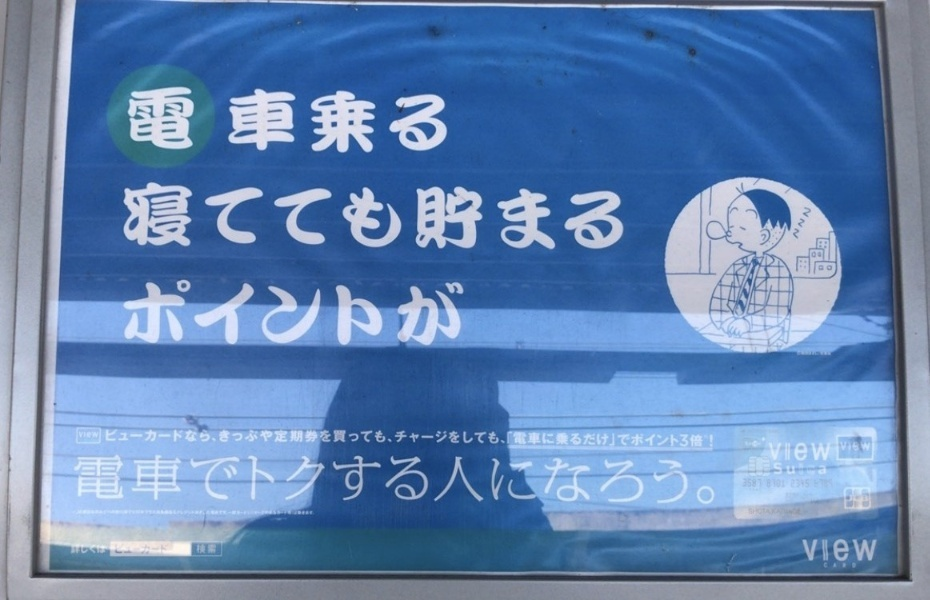text: (129, 278, 144, 349), (145, 278, 160, 349), (161, 278, 176, 349), (177, 278, 192, 349), (193, 278, 208, 349), (209, 278, 224, 349), (225, 278, 240, 349), (241, 278, 256, 349), (257, 278, 272, 349), (273, 278, 288, 349), (289, 278, 304, 349), (305, 278, 320, 349), (321, 278, 336, 349), (337, 278, 352, 349), (353, 278, 368, 349), (369, 278, 384, 349), (385, 278, 400, 349), (401, 278, 416, 349), (417, 278, 432, 349), (433, 278, 448, 349), (449, 278, 464, 349), (129, 185, 144, 255), (145, 185, 160, 255), (161, 185, 176, 255), (177, 185, 192, 255), (193, 185, 208, 255), (209, 185, 224, 255), (225, 185, 240, 255), (241, 185, 256, 255), (257, 185, 272, 255), (273, 185, 288, 255), (289, 185, 304, 255), (305, 185, 320, 255), (321, 185, 336, 255), (337, 185, 352, 255), (353, 185, 368, 255), (369, 185, 384, 255), (385, 185, 400, 255), (401, 185, 416, 255), (417, 185, 432, 255), (433, 185, 448, 255), (449, 185, 464, 255), (465, 185, 480, 255), (481, 185, 496, 255), (497, 185, 512, 255), (513, 185, 528, 255), (529, 185, 544, 255), (545, 185, 560, 255), (561, 185, 576, 255), (577, 185, 592, 255), (593, 185, 608, 255), (609, 185, 624, 255), (433, 91, 449, 152), (129, 91, 144, 152), (145, 91, 160, 152), (161, 91, 176, 152), (177, 91, 192, 152), (193, 91, 208, 152), (209, 91, 224, 152), (225, 91, 240, 152), (241, 91, 256, 152), (257, 91, 272, 152), (273, 91, 288, 152), (289, 91, 304, 152), (305, 91, 320, 152), (321, 91, 336, 152), (337, 91, 352, 152), (353, 91, 368, 152), (369, 91, 384, 152), (385, 91, 400, 152), (401, 91, 416, 152), (417, 91, 432, 152), (81, 457, 96, 511), (97, 457, 112, 511), (113, 457, 128, 511), (129, 457, 144, 511), (145, 457, 160, 511), (161, 457, 176, 511), (177, 457, 192, 511), (193, 457, 208, 511), (209, 457, 224, 511), (225, 457, 240, 511), (241, 457, 256, 511), (257, 457, 272, 511), (273, 457, 288, 511), (289, 457, 304, 511), (305, 457, 320, 511), (321, 457, 336, 511), (337, 457, 352, 511), (353, 457, 368, 511), (369, 457, 384, 511), (385, 457, 400, 511), (401, 457, 416, 511), (417, 457, 432, 511), (433, 457, 448, 511), (449, 457, 464, 511), (465, 457, 480, 511), (481, 457, 496, 511), (497, 457, 512, 511), (513, 457, 528, 511), (529, 457, 544, 511), (545, 457, 560, 511), (561, 457, 576, 511), (577, 457, 592, 511), (593, 457, 608, 511), (609, 457, 624, 511), (625, 457, 640, 511), (641, 457, 656, 511), (657, 457, 672, 511), (673, 457, 688, 511), (689, 457, 704, 511), (705, 457, 717, 511), (753, 480, 768, 513), (769, 480, 784, 513), (785, 480, 800, 513), (801, 480, 816, 513), (817, 480, 832, 513), (833, 480, 848, 513), (849, 480, 864, 513), (865, 536, 881, 564), (817, 536, 832, 564), (833, 536, 848, 564), (849, 536, 864, 564), (122, 185, 128, 255), (802, 536, 816, 564), (73, 457, 80, 511), (769, 440, 784, 464), (785, 440, 800, 464), (801, 440, 816, 464), (817, 440, 832, 464), (113, 429, 128, 450), (129, 429, 144, 450), (145, 429, 160, 450), (161, 429, 176, 450), (177, 429, 192, 450), (193, 429, 208, 450), (209, 429, 224, 450), (225, 429, 240, 450), (241, 429, 256, 450), (257, 429, 272, 450), (273, 429, 288, 450), (289, 429, 304, 450), (305, 429, 320, 450), (321, 429, 336, 450), (337, 429, 352, 450), (353, 429, 368, 450), (369, 429, 384, 450), (385, 429, 400, 450), (401, 429, 416, 450), (417, 429, 432, 450), (433, 429, 448, 450), (449, 429, 464, 450), (465, 429, 480, 450), (481, 429, 496, 450), (497, 429, 512, 450), (513, 429, 528, 450), (529, 429, 544, 450), (545, 429, 560, 450), (561, 429, 576, 450), (577, 429, 592, 450), (593, 429, 608, 450), (609, 429, 624, 450), (625, 429, 640, 450), (641, 429, 656, 450), (657, 429, 672, 450), (673, 429, 688, 450), (689, 429, 704, 450), (865, 480, 874, 513), (705, 429, 716, 450), (745, 480, 752, 513), (125, 278, 128, 349), (625, 185, 628, 255), (81, 543, 96, 557), (97, 543, 112, 557), (113, 543, 128, 557), (129, 543, 144, 557), (145, 543, 160, 557), (161, 543, 176, 557), (177, 543, 192, 557), (193, 543, 208, 557), (209, 543, 223, 557), (103, 429, 112, 450), (72, 543, 80, 557), (81, 510, 96, 517), (97, 510, 112, 517), (113, 510, 128, 517), (129, 510, 144, 517), (145, 510, 160, 517), (161, 510, 176, 517), (177, 510, 192, 517), (193, 510, 208, 517), (209, 510, 224, 517), (225, 510, 240, 517), (241, 510, 256, 517), (257, 510, 272, 517), (273, 510, 288, 517), (289, 510, 304, 517), (465, 278, 466, 349), (305, 510, 314, 517), (73, 510, 80, 517), (766, 440, 768, 464)
